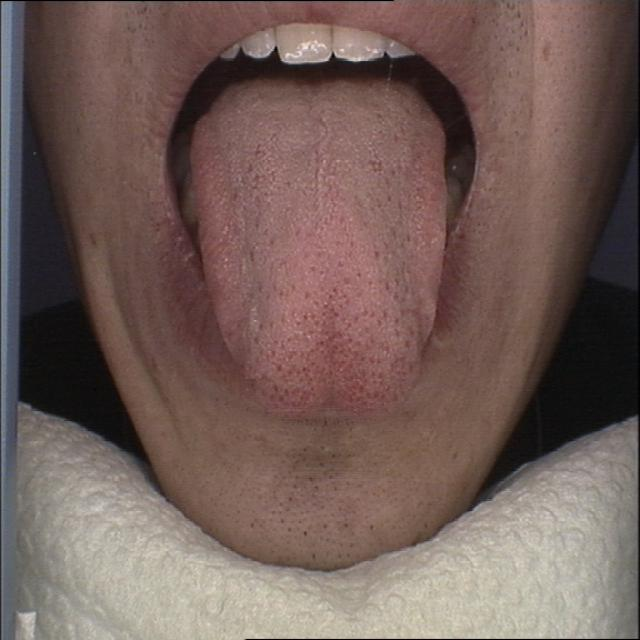tongue: (174, 77, 459, 426)
